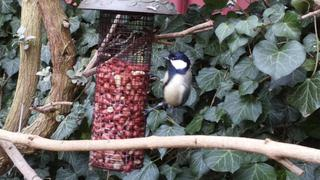great tit: (141, 51, 193, 116)
